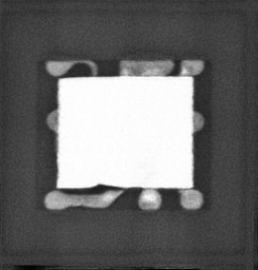DIE_BROKEN: (87, 182, 121, 190)
